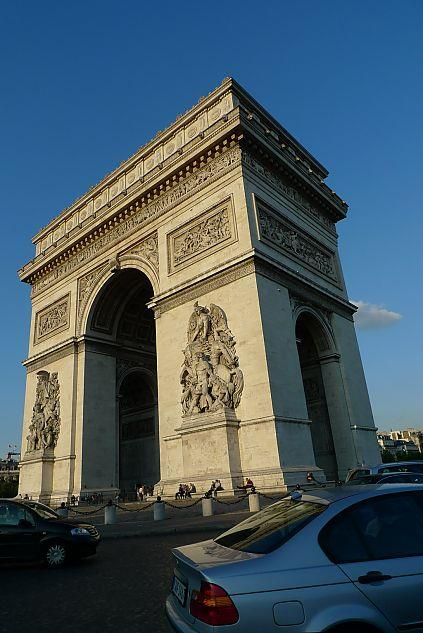Triumphal_Arch: (15, 73, 385, 505)
